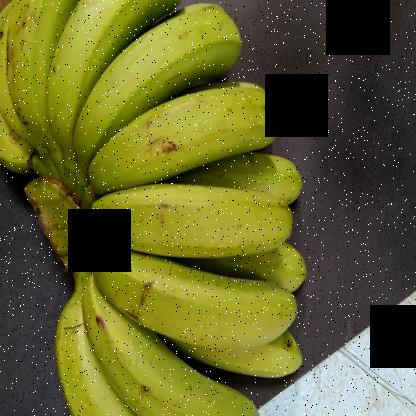freshunripe: (74, 5, 243, 150), (42, 0, 187, 134)
unripe: (73, 265, 264, 415), (92, 235, 304, 346), (91, 76, 285, 197), (84, 182, 300, 262), (0, 0, 67, 129)
